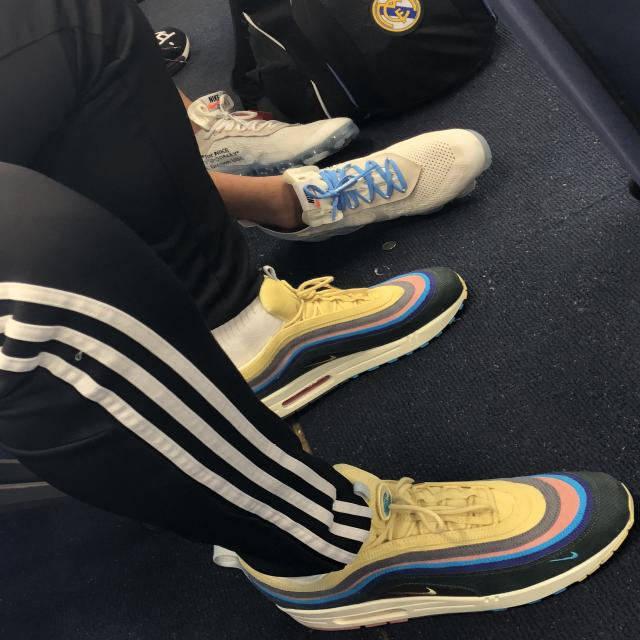shoe: (203, 458, 640, 640), (208, 256, 481, 438), (200, 125, 502, 248), (181, 87, 364, 181)
